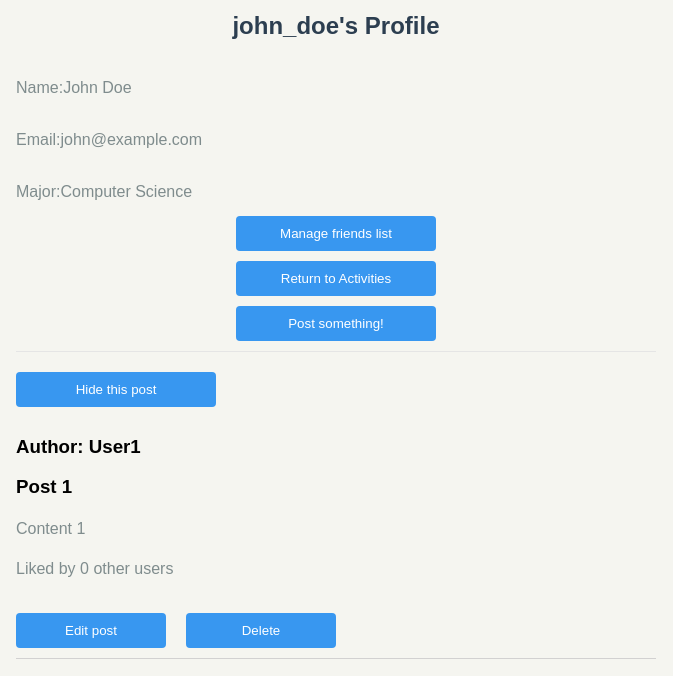
Test: Profile component › renders DeletePost component when a post is marked for deletion
Click the button "Delete" at (261, 631), box [186, 613, 336, 648]
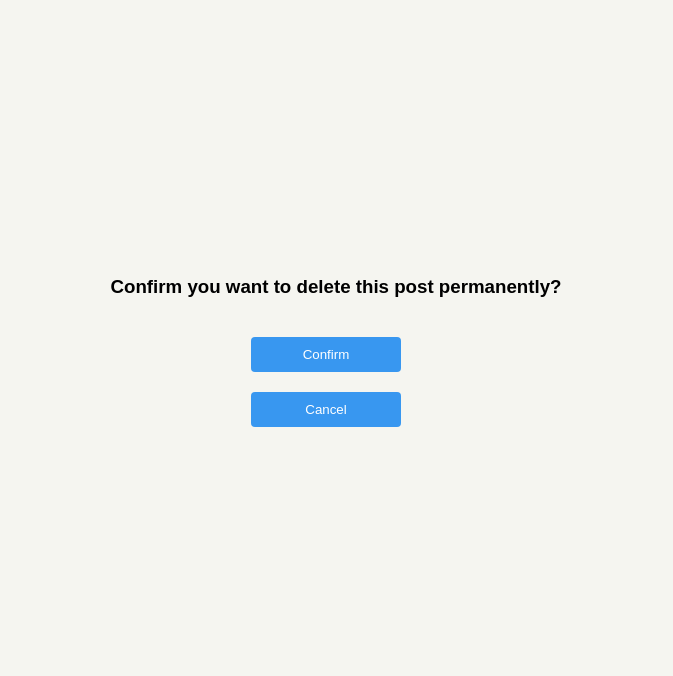
Check: the button "Confirm" is shown, box [251, 337, 401, 372]
